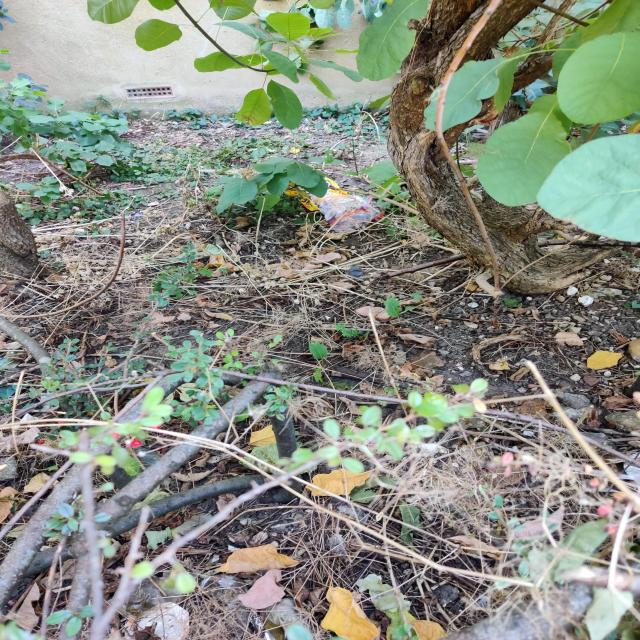litter: (302, 175, 372, 232)
